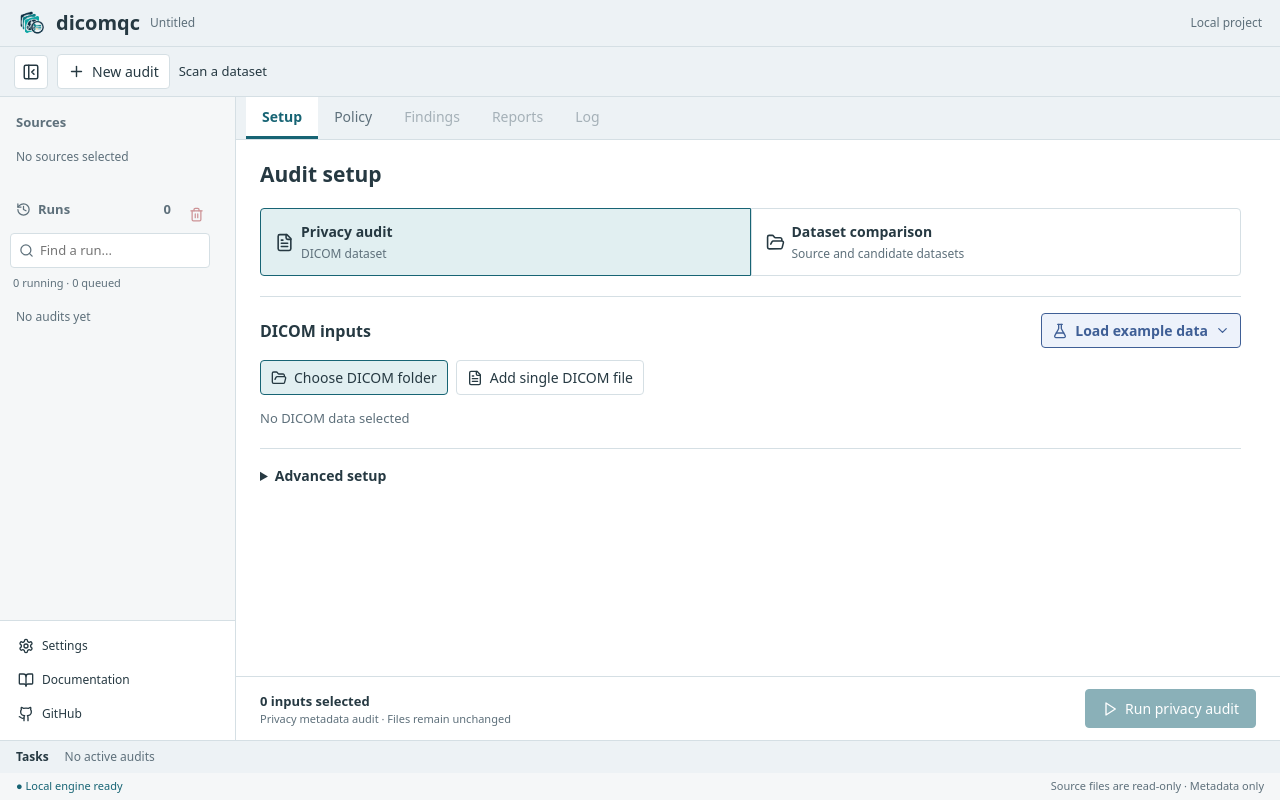
Test: settings and connection › contains preferences without duplicating project-file or About commands
Expected: the text "● Local engine ready" is shown, [16,778,123,795]
What coordinates should you click on to do the following:
click the button "Settings"
I would click on:
 (118, 646)
Its box is [10,630,225,661].
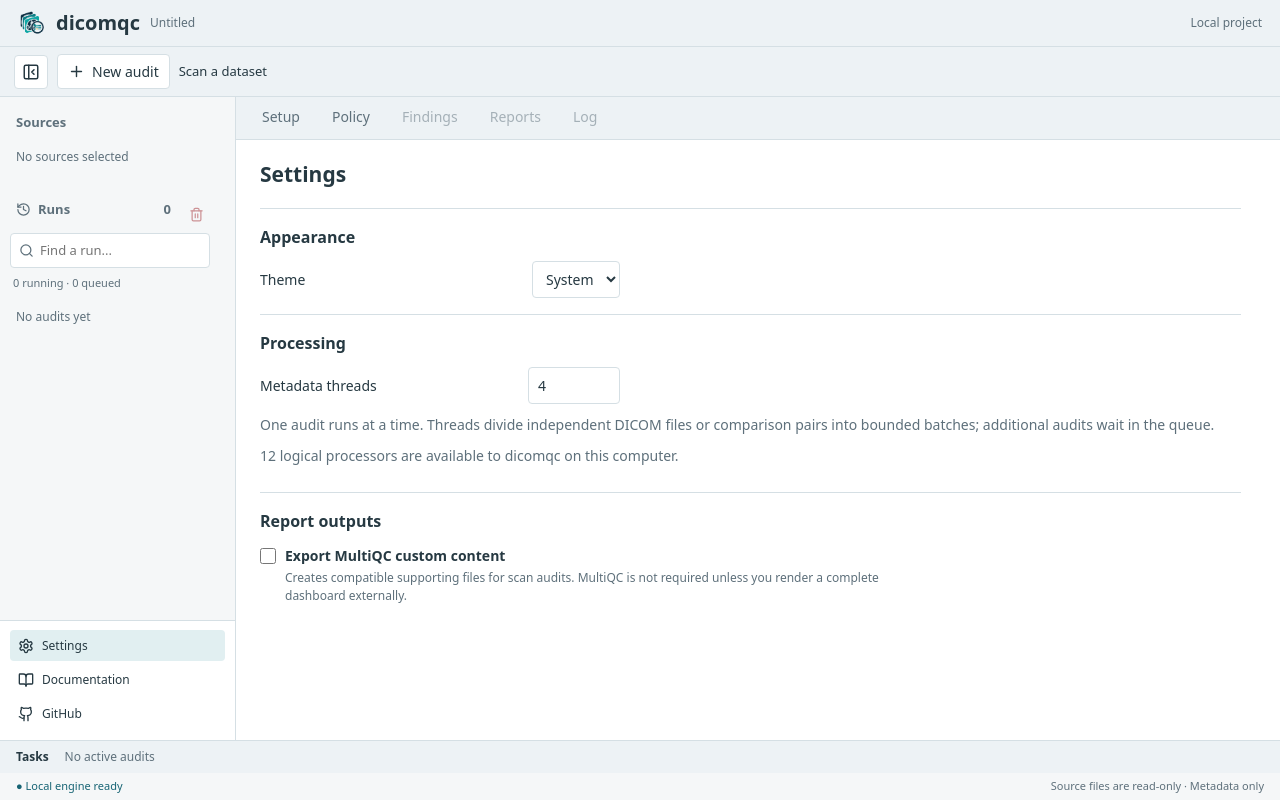
Expected: the heading "Appearance" is shown, [260,226,355,248]
Expected: the heading "Processing" is shown, [260,332,346,354]
Expected: the heading "Report outputs" is shown, [260,510,381,532]
